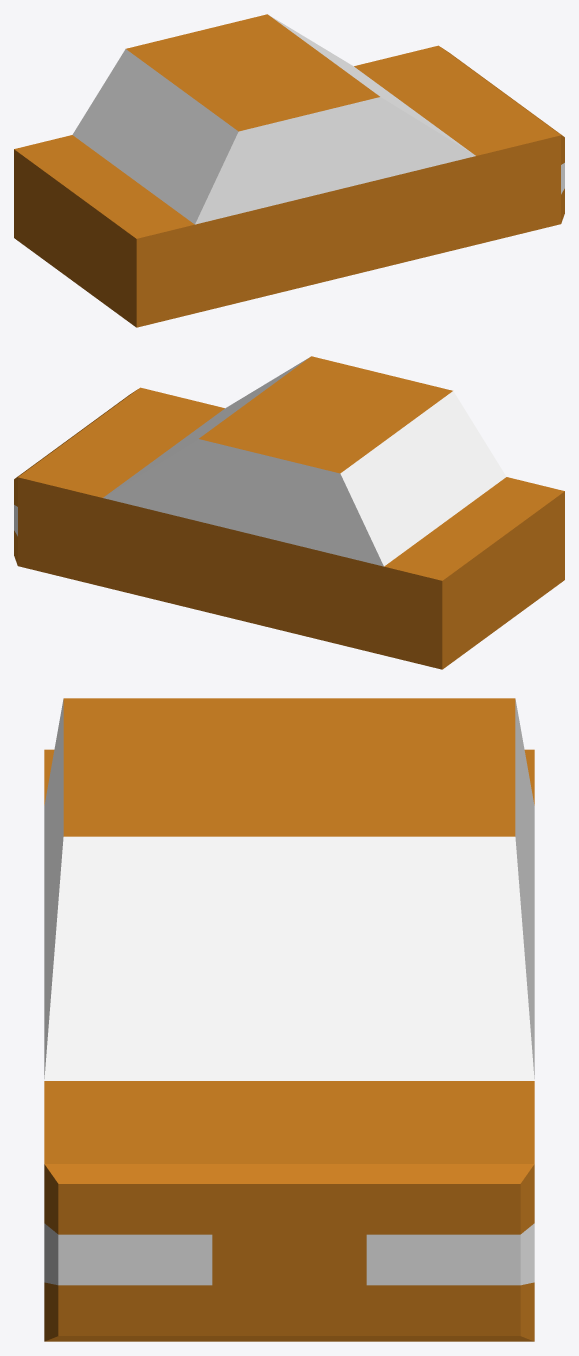
The model's file is Medium Car.fbx.
3 views of the same model, one above another, from view 1: azimuth 30°, elevation 25°; view 2: azimuth 150°, elevation 25°; view 3: azimuth 270°, elevation 25° (orthographic). The views are drawn at different scales.
Parts seen in each view (by area): view 1: Cube; view 2: Cube; view 3: Cube.
Boxes of the visible parts, x1=… form: Cube: x1=14, y1=14, x2=564, y2=327; Cube: x1=14, y1=356, x2=564, y2=669; Cube: x1=44, y1=698, x2=534, y2=1341.
Size of the model in its own units: 407 by 150 by 200.
